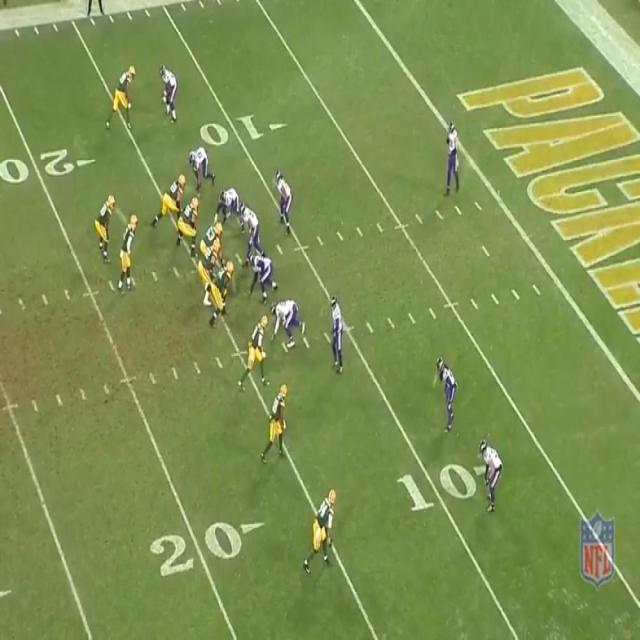center: (202, 223, 222, 257)
db: (478, 440, 508, 508), (437, 353, 462, 432), (328, 291, 347, 369), (160, 60, 183, 117), (444, 115, 458, 192)
lb: (237, 196, 266, 250), (274, 170, 296, 230)
qb: (120, 214, 136, 286)
skill: (238, 314, 268, 378)
